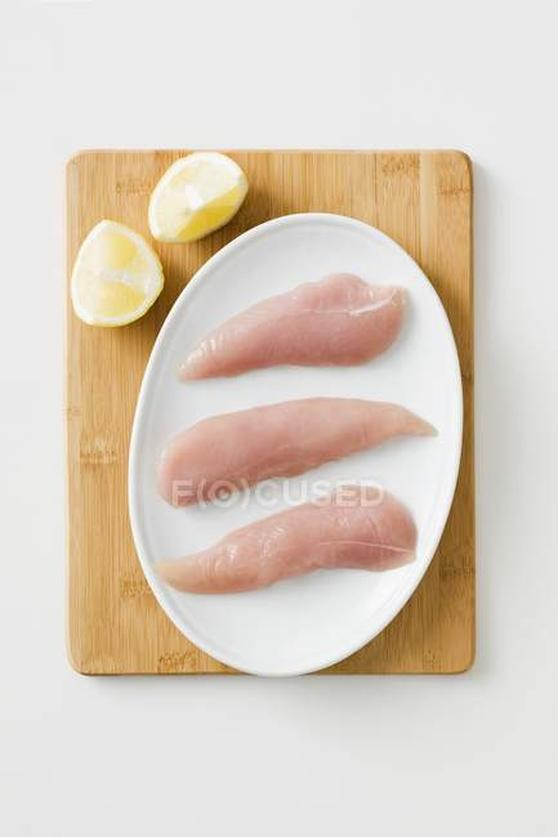chicken_fillet: (157, 401, 452, 496), (166, 497, 427, 592), (178, 277, 403, 380)
